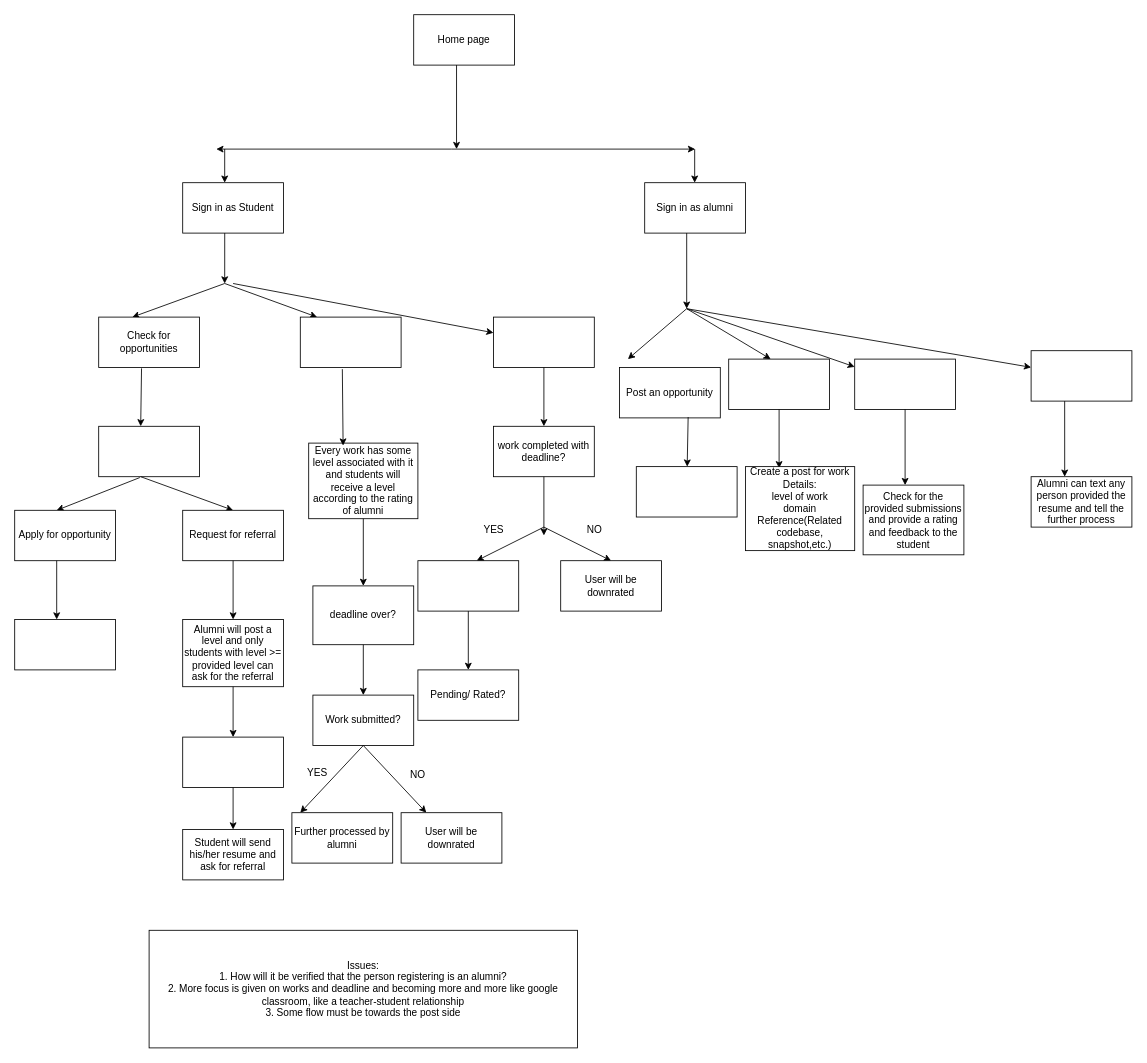
Some shapes in this 1147 by 1063 pixel diagram are drawn without their labels. The centre of each missing label's shape, as x and y in pixels:
"Check for open works" belongs at (350,342).
"Create a post(No comments will be allowed on posts)" belongs at (686,491).
"Display all opportunities posted by alumnis" belongs at (149,451).
"Fill the form with details and resume and exit" belongs at (65,644).
"Post a work" belongs at (779,384).
"Review Referral Requests" belongs at (1081,375).
"Review Submissions" belongs at (905,384).
"Submit your work" belongs at (543,342).
"Will open a chat window for restricted period of time" belongs at (233,762).
"Work will be sent to the alumni and will show the status of work" belongs at (468,585).
